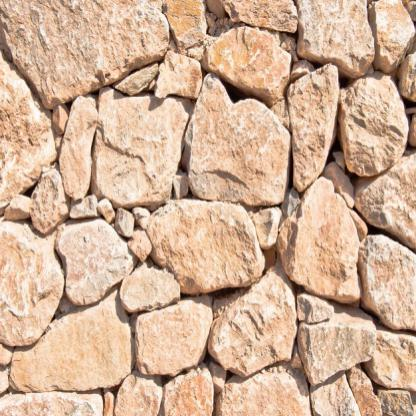Sedimentary_Limestone: (183, 70, 291, 213), (148, 197, 267, 297), (340, 79, 412, 187), (47, 218, 137, 299), (60, 96, 98, 212)
